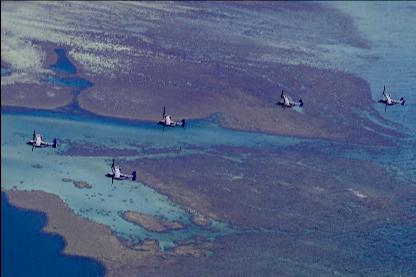Tornado: (102, 156, 136, 186), (154, 105, 184, 132), (25, 128, 56, 152), (376, 84, 404, 109), (274, 88, 302, 110)
